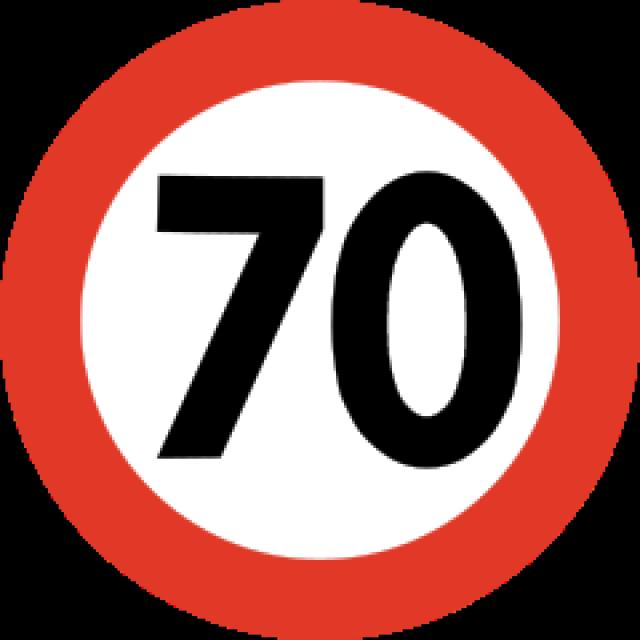Speed Limit -70-: (115, 136, 549, 511)
